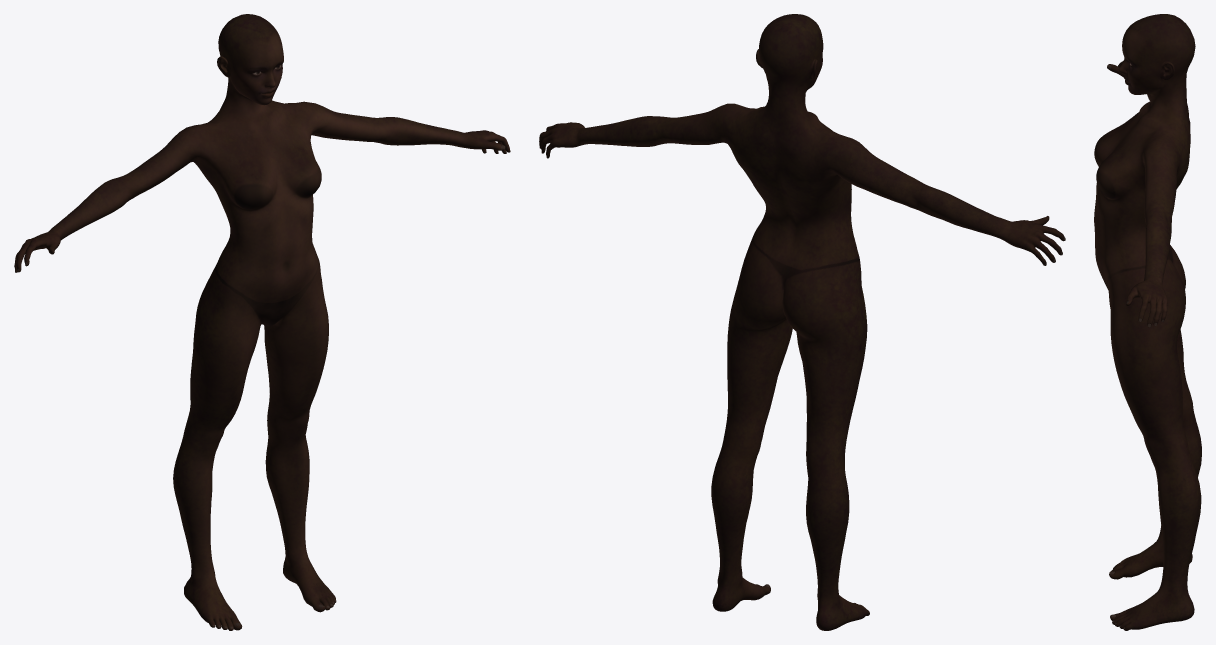
3 renders of one model, left to right at view 1: azimuth 30°, elevation 25°; view 2: azimuth 150°, elevation 25°; view 3: azimuth 270°, elevation 25°, orthographic. The views are drawn at different scales.
Parts seen in each view (by area): view 1: mesh_character_m.002; view 2: mesh_character_m.002; view 3: mesh_character_m.002.
Part boxes in pixels (box(x1,y1,x2,y2)): mesh_character_m.002: box(14, 14, 510, 630); mesh_character_m.002: box(539, 14, 1065, 630); mesh_character_m.002: box(1094, 14, 1201, 630).
Bounding box in the file's own units: 1.6 × 1.8 × 0.3029.
Materials: 1 (1 with a texture image).
